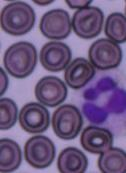N: (74, 68, 126, 132)
